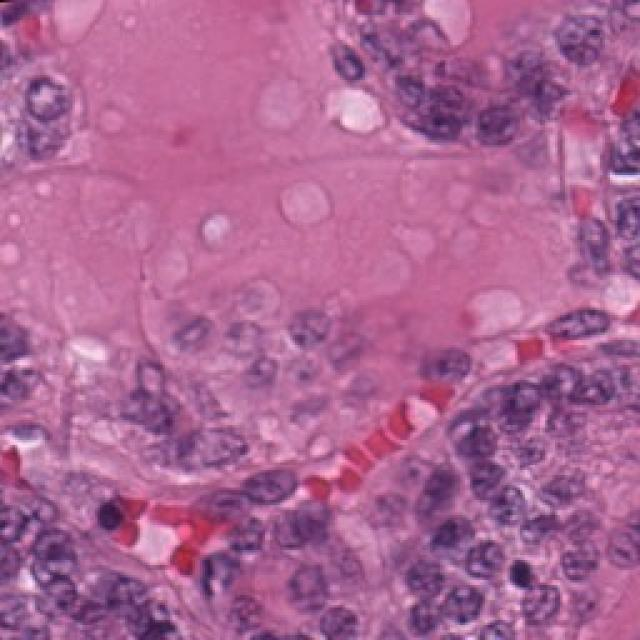abnormal: (222, 435, 307, 513), (541, 291, 629, 364), (405, 326, 488, 401), (547, 519, 614, 597), (372, 547, 464, 602), (26, 508, 90, 587), (549, 7, 619, 77), (476, 86, 536, 166), (26, 62, 96, 127), (548, 521, 612, 583), (427, 562, 491, 623), (456, 532, 520, 591), (515, 572, 572, 637), (464, 450, 518, 516), (553, 452, 599, 528), (24, 110, 76, 177), (288, 556, 343, 616), (449, 405, 503, 463), (397, 49, 437, 121), (452, 447, 508, 498), (532, 351, 576, 411)
